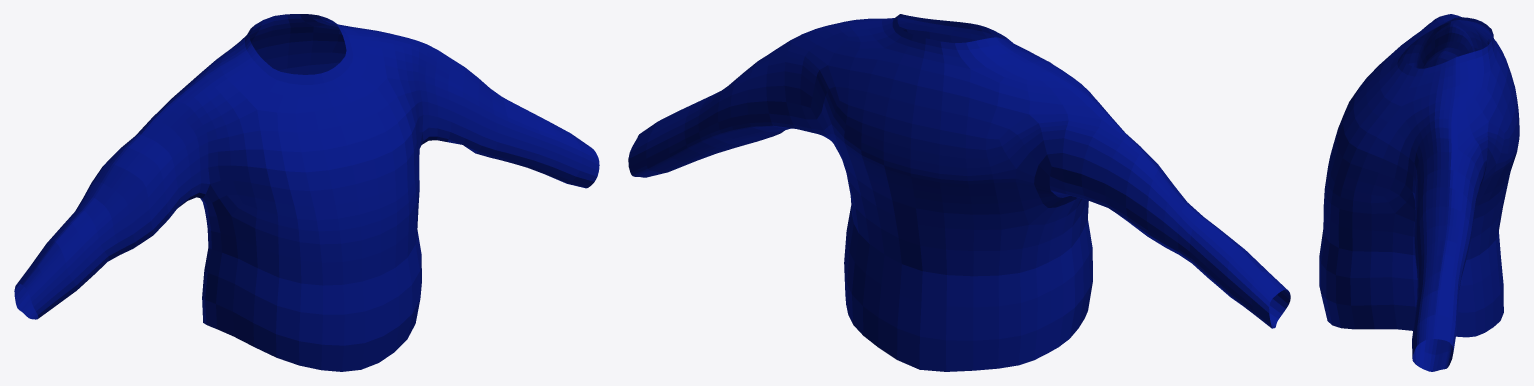
File: magliaintera.fbx
The picture shows the model from 3 angles, left to right: view 1: azimuth 30°, elevation 25°; view 2: azimuth 150°, elevation 25°; view 3: azimuth 270°, elevation 25°; orthographic projection. The views are drawn at different scales.
Visible parts, largest first — view 1: Plane.001; view 2: Plane.001; view 3: Plane.001.
Boxes of the visible parts, x1,y1,x2,y2 form: Plane.001: (14, 14, 599, 371); Plane.001: (628, 14, 1290, 371); Plane.001: (1319, 14, 1519, 371).
Bounding box in the file's own units: 124 × 60.53 × 39.29.
